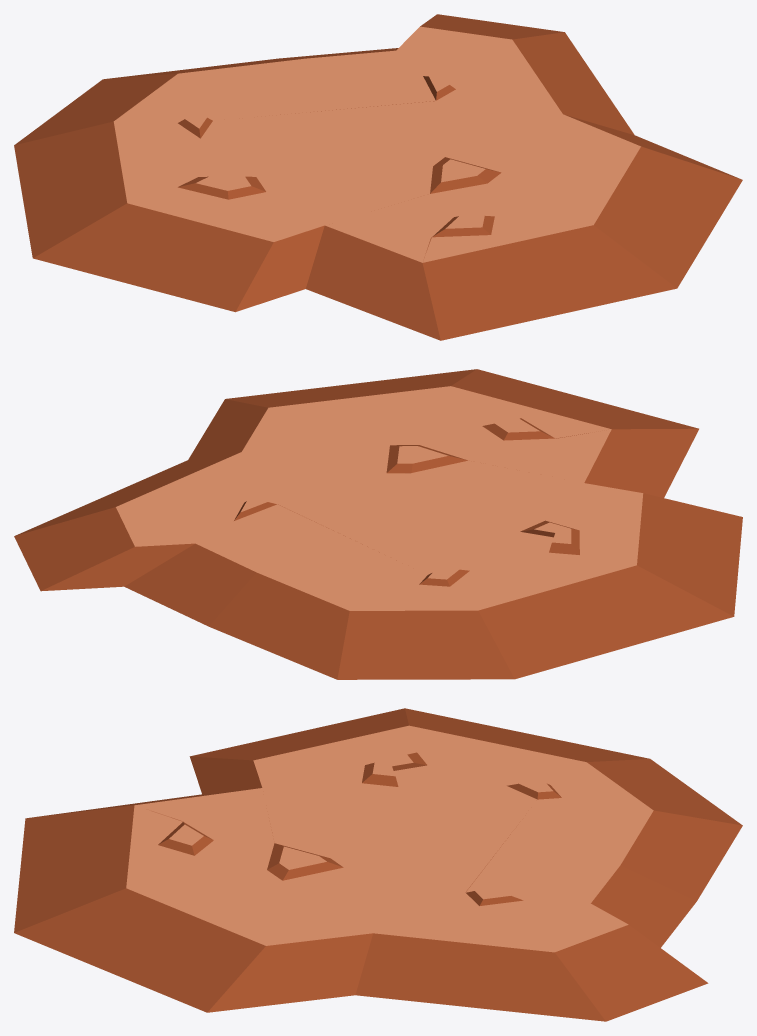
The model's file is Boden_2.fbx.
The picture shows the model from 3 angles, top to bottom: view 1: azimuth 30°, elevation 25°; view 2: azimuth 150°, elevation 25°; view 3: azimuth 270°, elevation 25°; orthographic projection. The views are drawn at different scales.
Parts seen in each view (by area): view 1: Plane.021; view 2: Plane.021; view 3: Plane.021.
Boxes of the visible parts, bbox=[...] form: Plane.021: bbox=[14, 14, 742, 340]; Plane.021: bbox=[14, 369, 742, 679]; Plane.021: bbox=[14, 708, 742, 1021].
Size of the model in its own units: 2481 by 2438 by 130.
